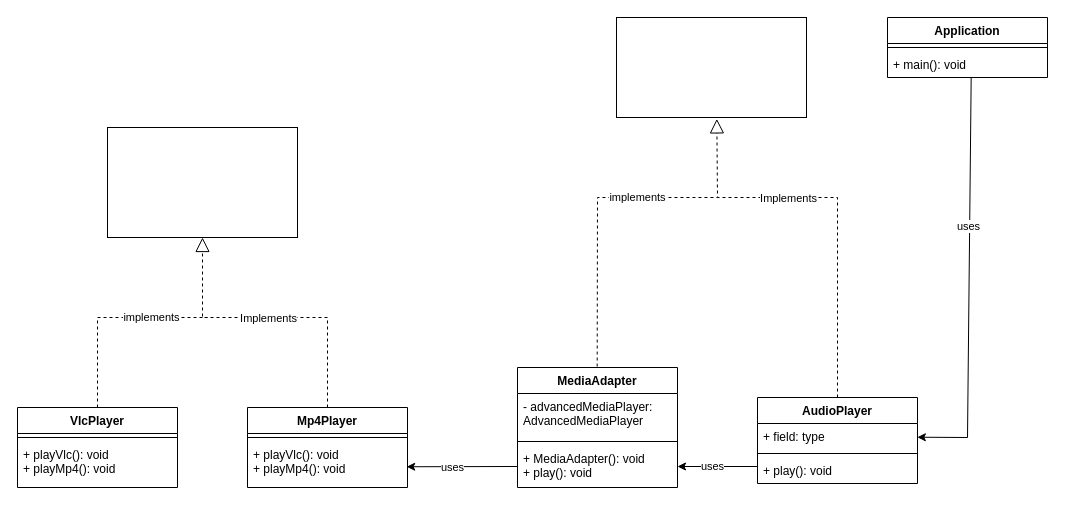
Image size: 1065x508. Some labels were removed from this diagram. Each missing label, with the centre of its shape:
<<Interface>> AdvancedMediaPlayer + playVlc(): void + playMp4: void: [202,182]
<<Interface>> MediaPlayer + play(): void: [711,67]
